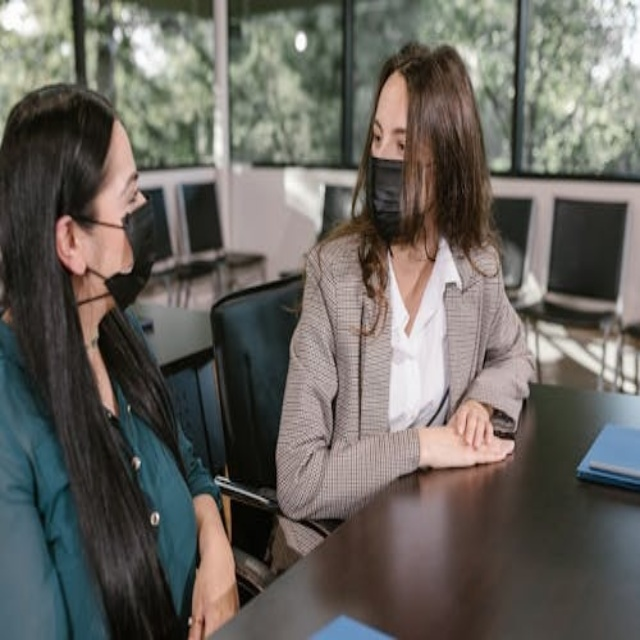Mascara: (89, 195, 161, 311), (368, 156, 410, 242)
Sin_gafas: (367, 117, 420, 163), (100, 171, 146, 219)
Sin_guantes: (175, 482, 250, 634), (412, 386, 521, 475)
